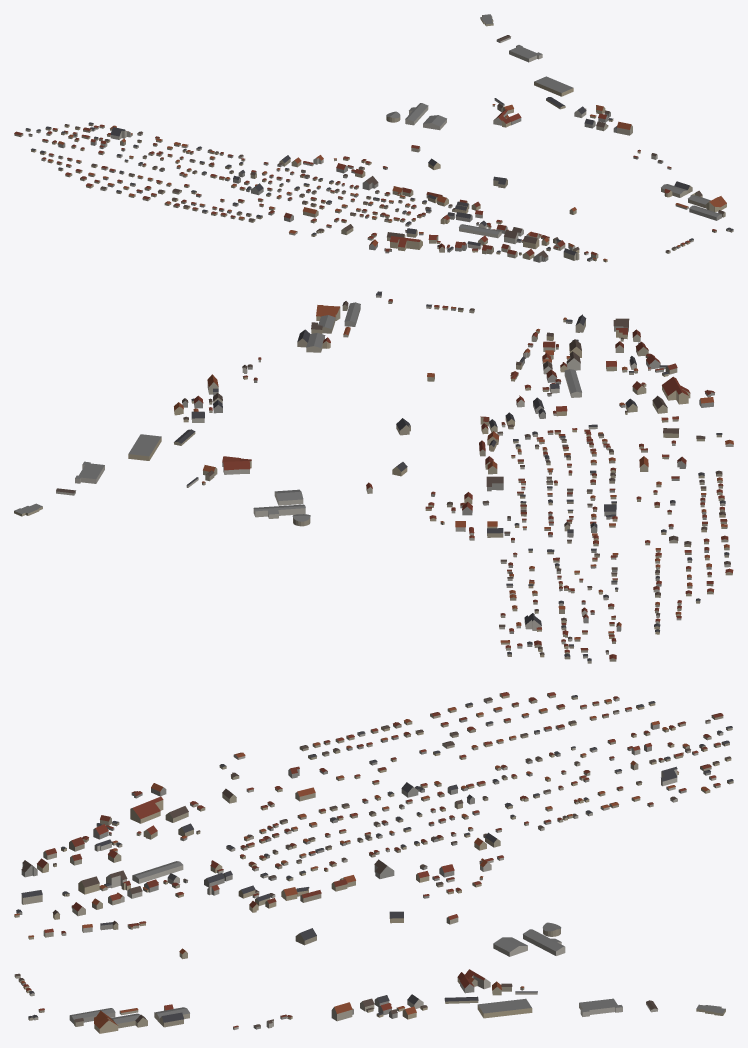
3 renders of one model, top to bottom at view 1: azimuth 30°, elevation 25°; view 2: azimuth 150°, elevation 25°; view 3: azimuth 270°, elevation 25°, orthographic. The views are drawn at different scales.
Visible parts, largest first — view 1: buildings; view 2: buildings; view 3: buildings.
Part boxes in pixels (<box>): buildings: <box>14,14,733,262</box>; buildings: <box>14,291,733,663</box>; buildings: <box>14,692,733,1033</box>.
Size of the model in its own units: 817 by 49.63 by 797.
